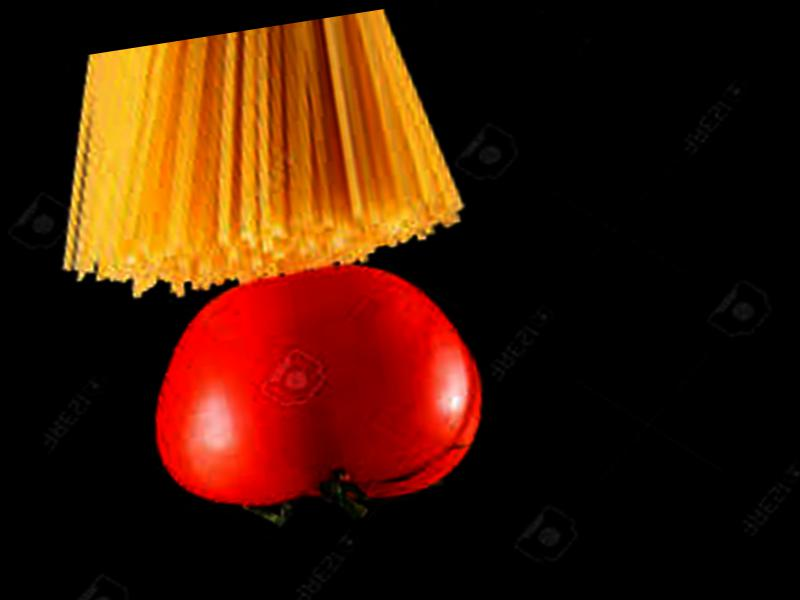Tomato: (135, 246, 491, 532)
